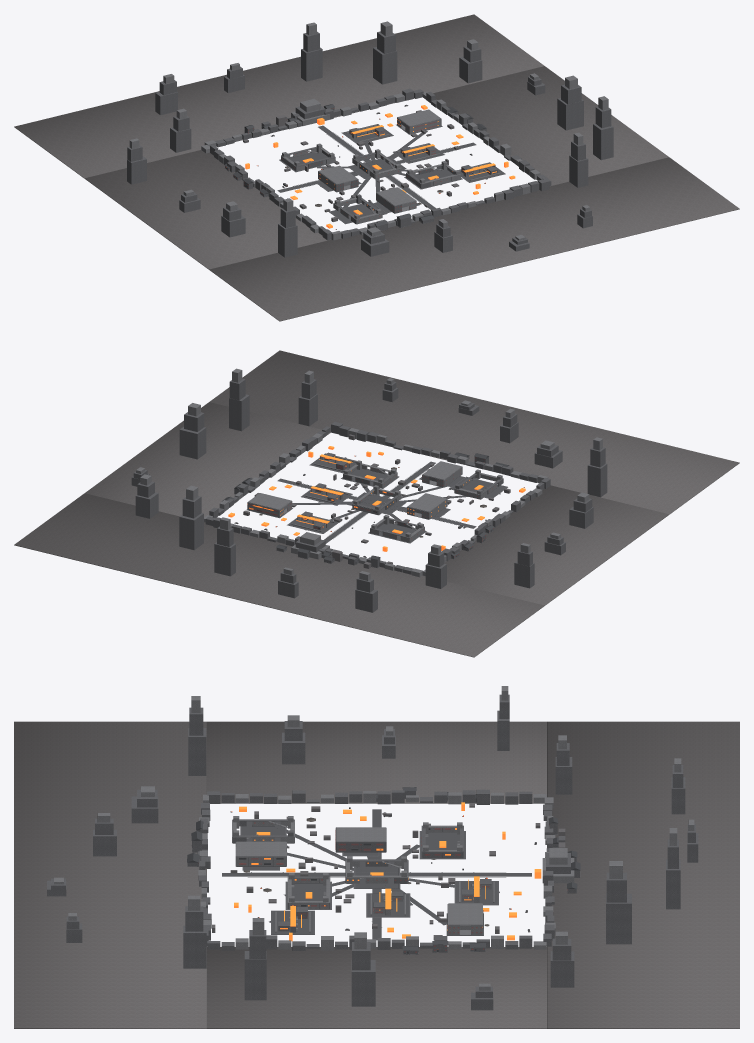
3 views of the same model, one above another, from view 1: azimuth 30°, elevation 25°; view 2: azimuth 150°, elevation 25°; view 3: azimuth 270°, elevation 25° (orthographic). The views are drawn at different scales.
Visible parts, largest first — view 1: HB_z02_LOD1_terrain, HB_z02_LOD1_wall_alt, HB_z02_LOD1_wall, HB_z02_LOD1_road, HB_z02_LOD1_emissive, HB_z02_LOD1_obstacle, HB_z02_LOD1_trim; view 2: HB_z02_LOD1_terrain, HB_z02_LOD1_wall_alt, HB_z02_LOD1_wall, HB_z02_LOD1_road, HB_z02_LOD1_emissive, HB_z02_LOD1_obstacle, HB_z02_LOD1_trim; view 3: HB_z02_LOD1_terrain, HB_z02_LOD1_wall_alt, HB_z02_LOD1_wall, HB_z02_LOD1_road, HB_z02_LOD1_trim, HB_z02_LOD1_obstacle, HB_z02_LOD1_emissive.
Boxes of the visible parts, x1=… form: HB_z02_LOD1_terrain: x1=14, y1=14, x2=739, y2=321; HB_z02_LOD1_wall_alt: x1=127, y1=31, x2=613, y2=257; HB_z02_LOD1_wall: x1=129, y1=21, x2=608, y2=240; HB_z02_LOD1_road: x1=277, y1=124, x2=505, y2=224; HB_z02_LOD1_emissive: x1=245, y1=105, x2=515, y2=228; HB_z02_LOD1_obstacle: x1=243, y1=105, x2=472, y2=221; HB_z02_LOD1_trim: x1=224, y1=104, x2=486, y2=226; HB_z02_LOD1_terrain: x1=14, y1=350, x2=739, y2=657; HB_z02_LOD1_wall_alt: x1=131, y1=378, x2=607, y2=612; HB_z02_LOD1_wall: x1=136, y1=368, x2=602, y2=580; HB_z02_LOD1_road: x1=246, y1=454, x2=507, y2=543; HB_z02_LOD1_emissive: x1=228, y1=446, x2=525, y2=551; HB_z02_LOD1_obstacle: x1=234, y1=434, x2=510, y2=568; HB_z02_LOD1_trim: x1=222, y1=452, x2=509, y2=561; HB_z02_LOD1_terrain: x1=14, y1=721, x2=739, y2=1028; HB_z02_LOD1_wall_alt: x1=47, y1=694, x2=698, y2=1010; HB_z02_LOD1_wall: x1=54, y1=686, x2=694, y2=990; HB_z02_LOD1_road: x1=222, y1=809, x2=531, y2=940; HB_z02_LOD1_trim: x1=187, y1=787, x2=580, y2=953; HB_z02_LOD1_obstacle: x1=212, y1=803, x2=565, y2=939; HB_z02_LOD1_emissive: x1=234, y1=802, x2=541, y2=941.
Size of the model in its own units: 640 by 75.95 by 640.
Materials: 10 (8 with a texture image).
